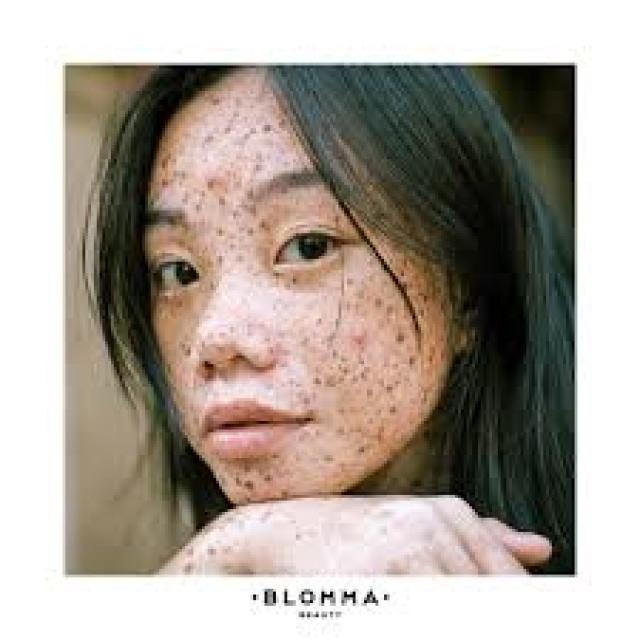pigmentation: (174, 125, 392, 445)
